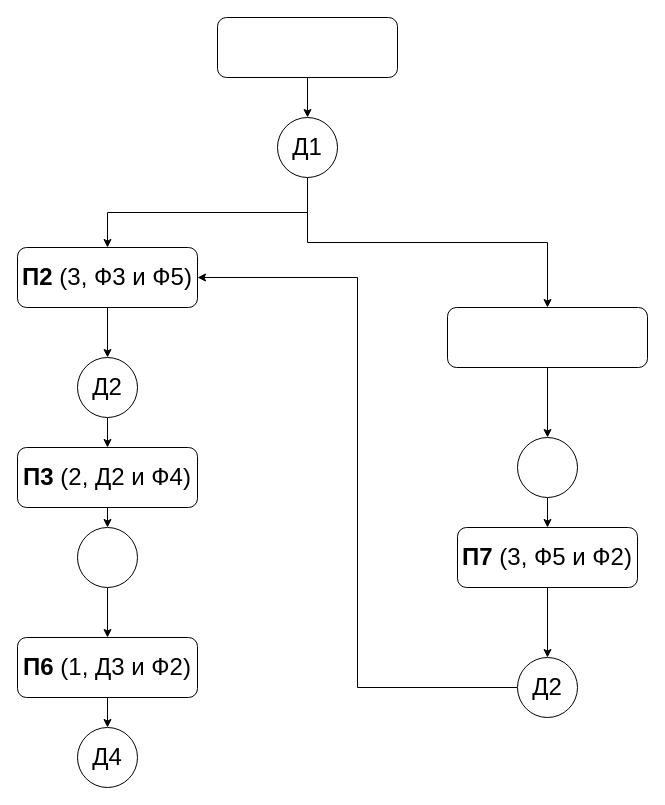
The diagram is 665 pixels wide and 805 high, and some of its shapes have lost their labels. The shapes that lost their labels are listed below. From the top down, each one's box as (x1, y1, x2, y2) in pixels, then its label:
(216, 16, 398, 78): П1 (4, Ф1 и Ф2)
(446, 306, 648, 368): П4 (2, Д2 и неФ4)
(516, 436, 578, 498): Д5
(76, 526, 138, 588): Д3
